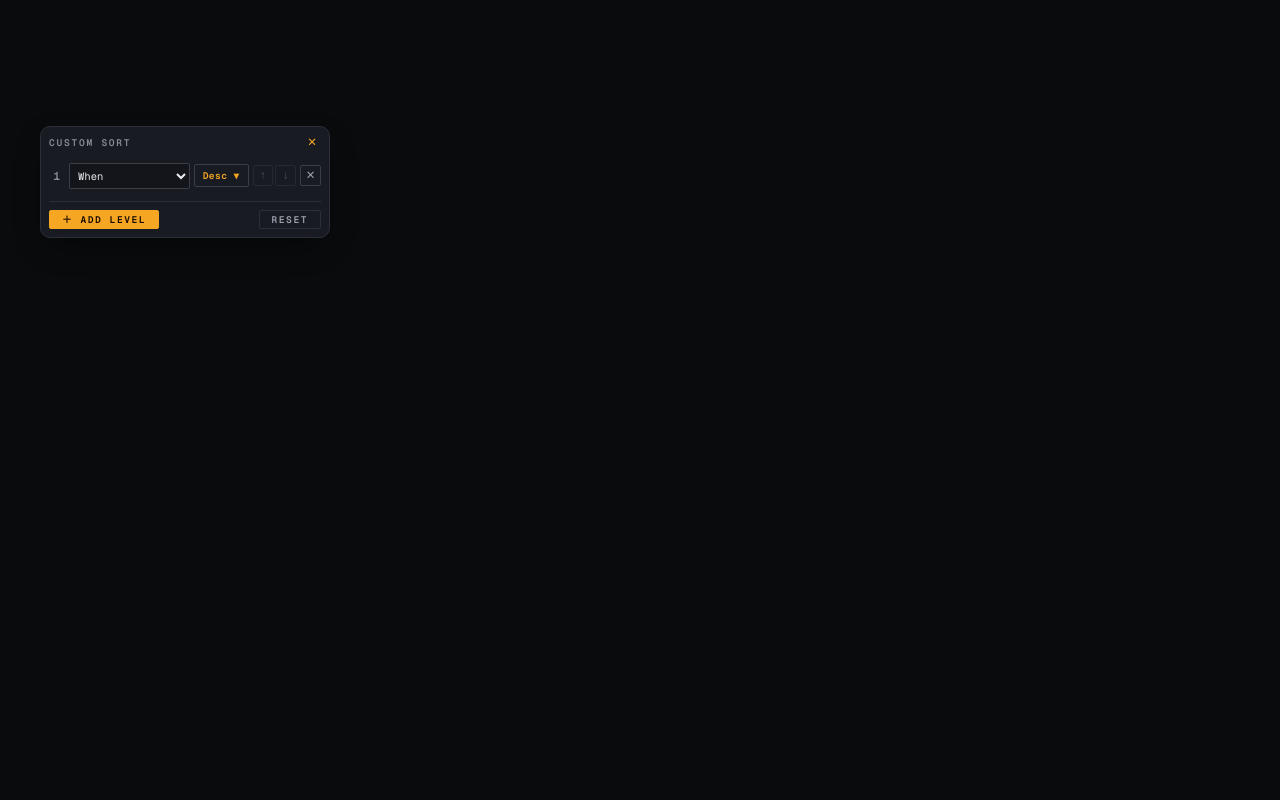
Test: MatchesTableSortPopover › toggling a level’s direction flips its label
The image size is (1280, 800).
Click the button with aria-label "Toggle direction for level 1". click: (221, 176)
box: x1=194 y1=164 x2=249 y2=187
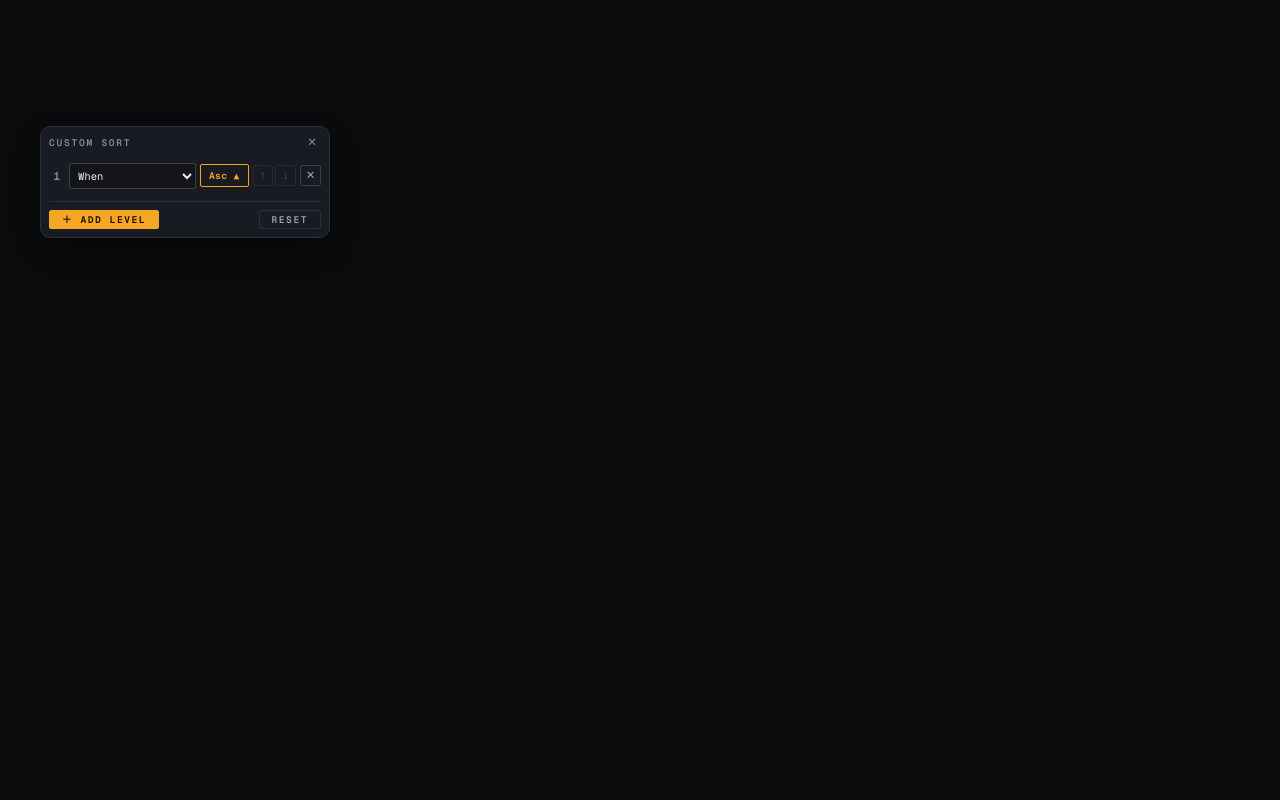
Check: the button with aria-label "Toggle direction for level 1" shows "Asc", box x1=200 y1=164 x2=249 y2=187
